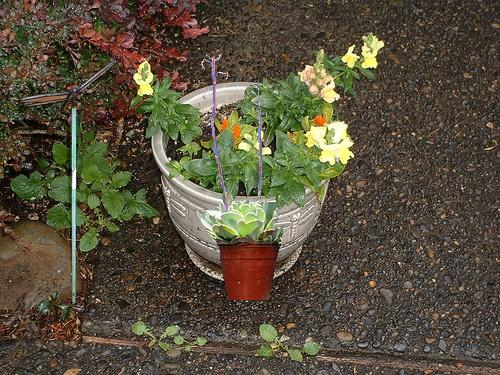tampered: (201, 54, 283, 300)
